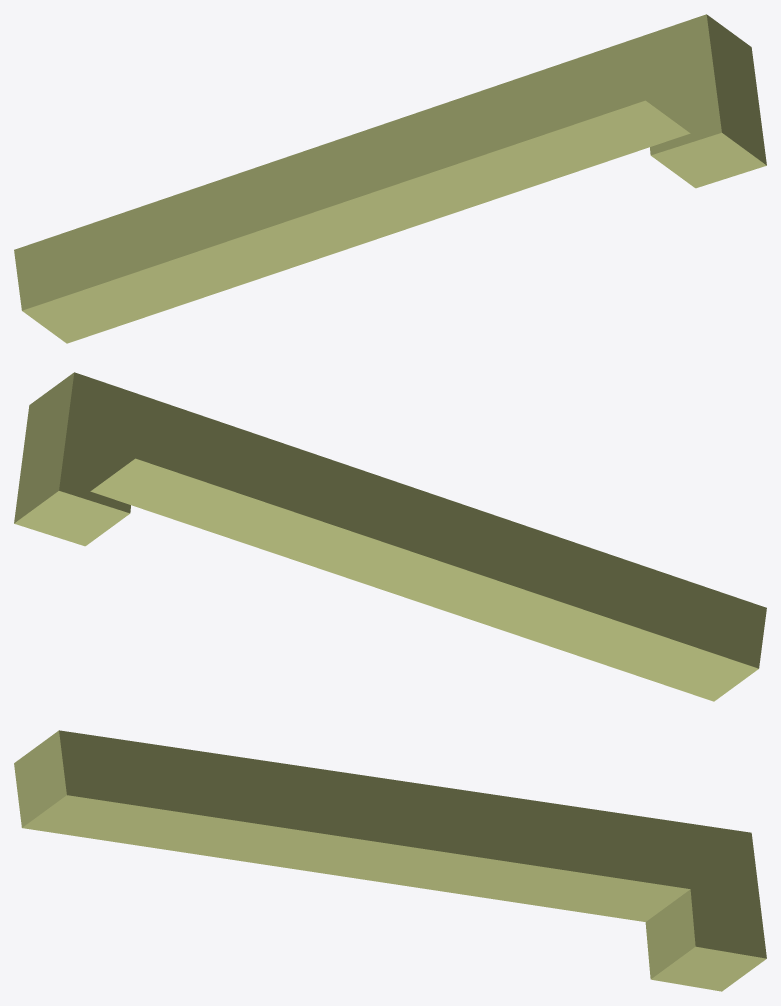
3 views of the same model, one above another, from view 1: azimuth 30°, elevation 25°; view 2: azimuth 150°, elevation 25°; view 3: azimuth 330°, elevation 25° (orthographic).
Parts seen in each view (by area): view 1: 0_3_0_1_2_1_2_2; view 2: 0_3_0_1_2_1_2_2; view 3: 0_3_0_1_2_1_2_2.
Part boxes in pixels (<box>): 0_3_0_1_2_1_2_2: <box>14,14,766,343</box>; 0_3_0_1_2_1_2_2: <box>14,372,766,701</box>; 0_3_0_1_2_1_2_2: <box>14,730,766,991</box>.
Bounding box in the file's own units: 54.48 × 9.52 × 6.
